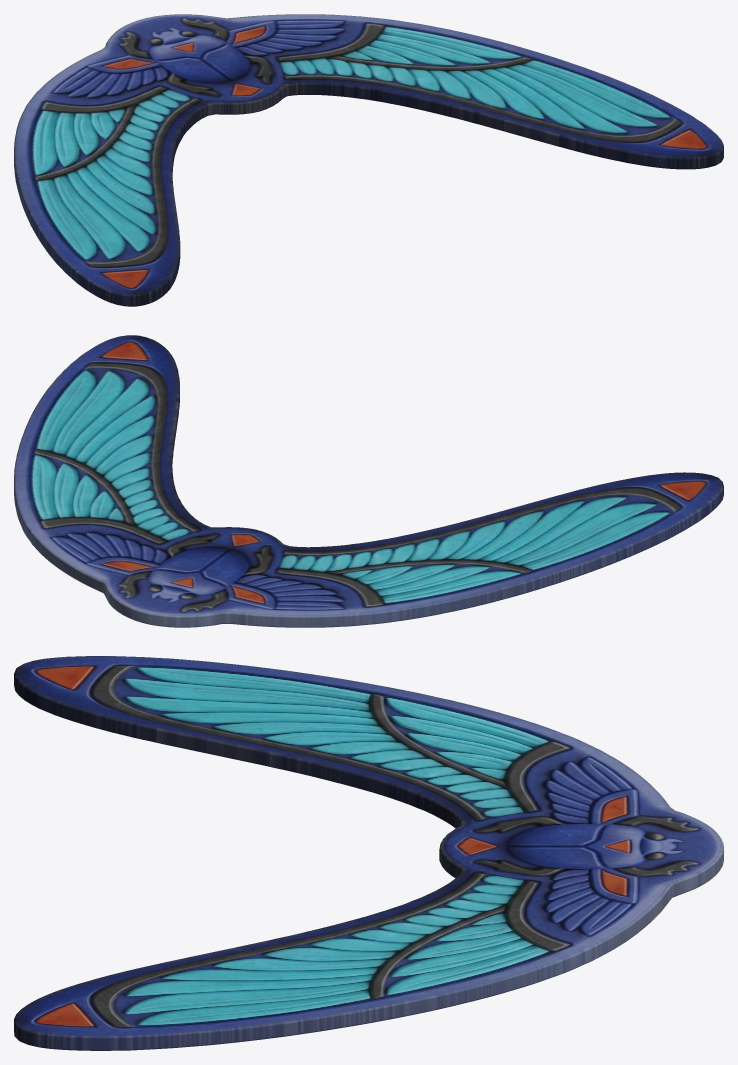
Rendered from Boomerang_32.fbx.
3 views of the same model, one above another, from view 1: azimuth 30°, elevation 25°; view 2: azimuth 150°, elevation 25°; view 3: azimuth 270°, elevation 25° (orthographic). The views are drawn at different scales.
Parts seen in each view (by area): view 1: Boomerang_32; view 2: Boomerang_32; view 3: Boomerang_32.
Part boxes in pixels (bbox=[...]): Boomerang_32: bbox=[14, 14, 723, 306]; Boomerang_32: bbox=[14, 335, 723, 627]; Boomerang_32: bbox=[14, 656, 723, 1050].
Bounding box in the file's own units: 236 × 4.2 × 186.
1 material, 1 textured.
